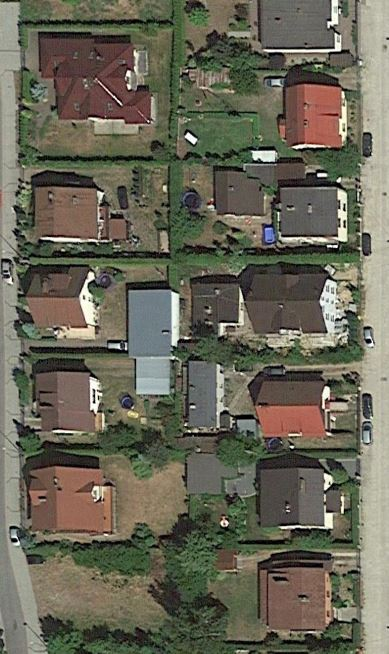family house: (32, 28, 158, 127), (22, 459, 119, 537), (245, 267, 342, 343), (257, 558, 343, 634), (253, 464, 340, 533), (24, 263, 105, 335), (271, 82, 350, 154), (251, 376, 336, 440), (30, 367, 106, 438), (249, 1, 348, 54), (34, 183, 113, 245), (275, 183, 352, 246)
garage: (119, 284, 181, 400), (182, 358, 234, 436), (209, 161, 273, 220), (183, 445, 243, 497)
